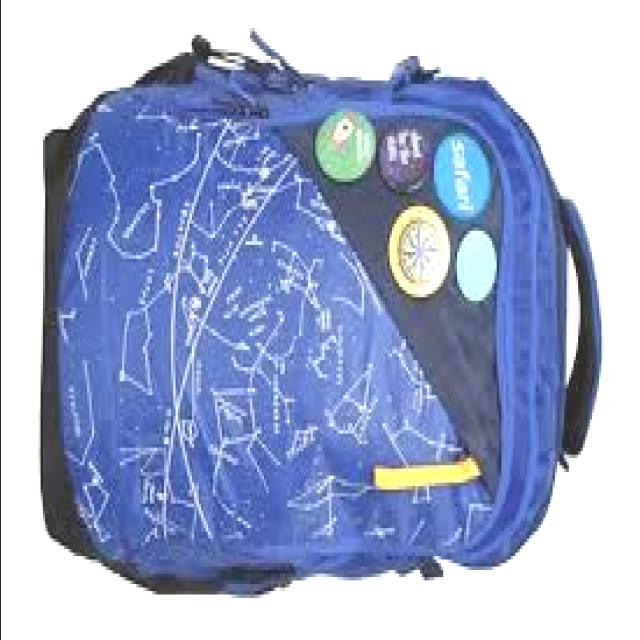backpack: (41, 29, 607, 599)
